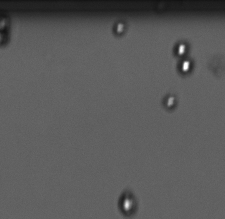Dead Cell: (1, 12, 14, 49)
Living Cell: (118, 191, 139, 216), (176, 57, 194, 75), (163, 94, 179, 111), (174, 42, 189, 57), (114, 22, 128, 37)
